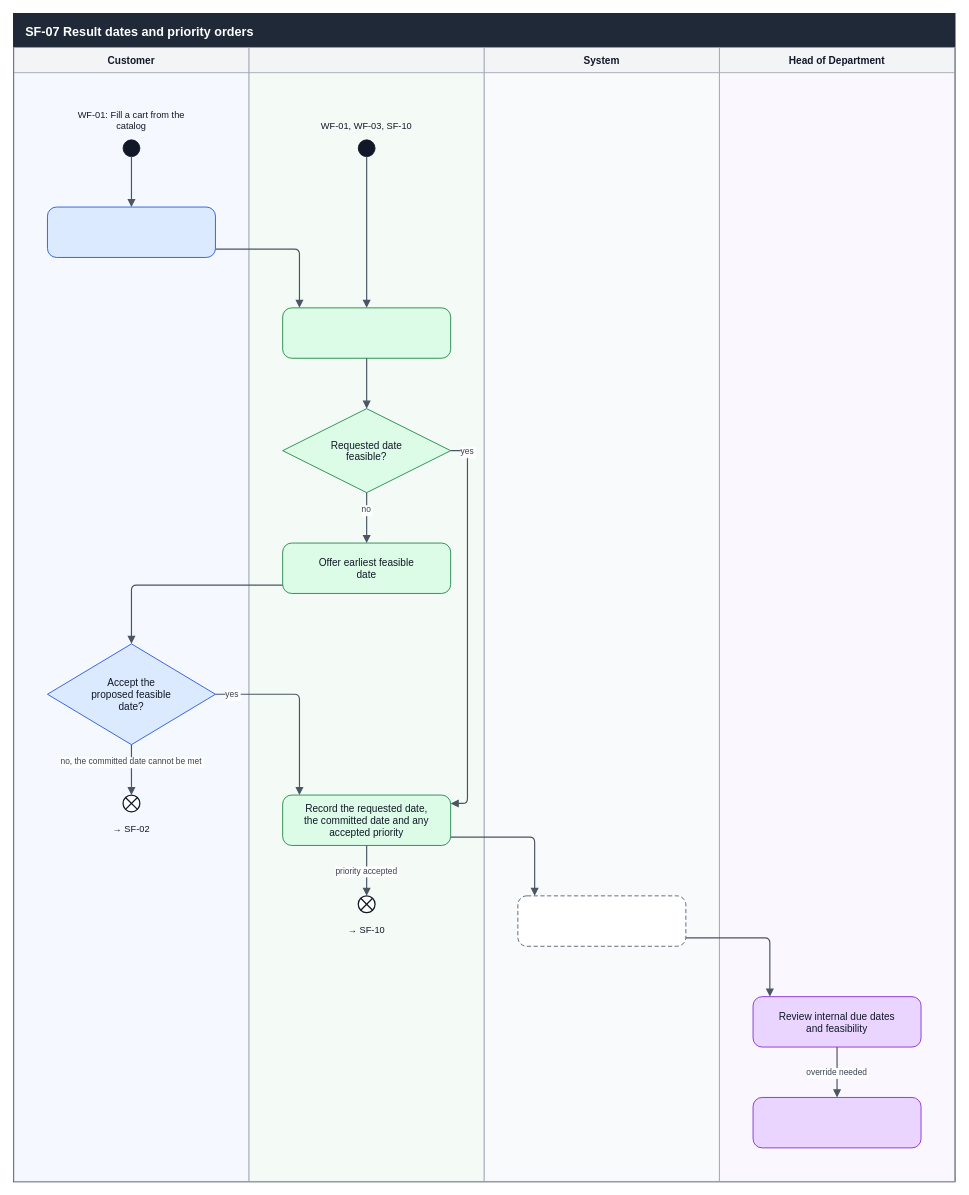
Image size: 969x1195. Some labels were removed from this diagram. The box of each missing label's shape, as (x1, y1, x2, y2) in pixels:
Estimate every branch plus safety margin without reserving: (282, 307, 451, 358)
Keep a manual override with reason and risk flag when infeasible: (752, 1097, 921, 1148)
Recalculate automatic dates and preserve overrides: (517, 895, 686, 946)
Request a return date or priority: (47, 206, 215, 257)
Sales: (248, 47, 484, 1181)
